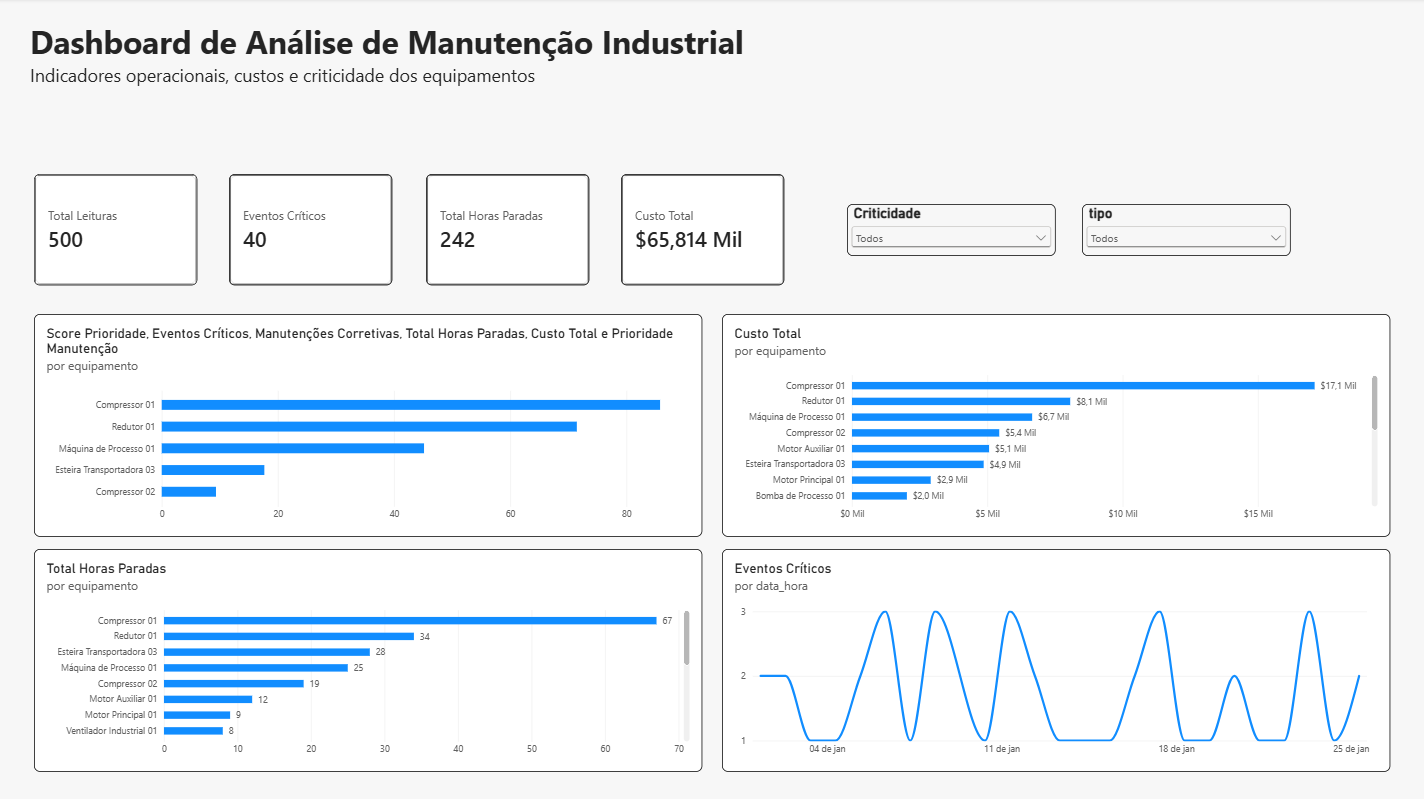

The page's visual inventory and layout, read from the dashboard file:
{"tool":"powerbi","page":{"name":"Visão Geral","canvas":[1920,1080],"ordinal":0},"visuals":[{"type":"cardVisual","title":"Total Leituras","fields":{"Data":["tb_leituras.Total Leituras"]},"box":[45.3,237,220,150],"z":0},{"type":"cardVisual","fields":{"Data":["tb_leituras.Eventos Críticos"]},"box":[308.4,237,220,150],"z":1},{"type":"cardVisual","fields":{"Data":["tb_manutencoes.Total Horas Paradas"]},"box":[573.2,237,220,150],"z":2},{"type":"cardVisual","fields":{"Data":["tb_manutencoes.Custo Total"]},"box":[836.3,237,220,150],"z":3},{"type":"clusteredBarChart","fields":{"Category":["tb_equipamentos.equipamento"],"Y":["tb_manutencoes.Custo Total"]},"box":[972.2,425.1,900,300],"z":5},{"type":"clusteredBarChart","fields":{"Category":["tb_equipamentos.equipamento"],"Y":["tb_manutencoes.Total Horas Paradas"]},"box":[45.3,742.2,900,300],"z":6},{"type":"slicer","fields":{"Values":["tb_equipamentos.criticidade"]},"box":[1141.2,277,280.5,70],"z":7},{"type":"slicer","fields":{"Values":["tb_equipamentos.tipo"]},"box":[1456.6,277,280.5,70],"z":8},{"type":"textbox","box":[40,30,980,90],"z":9},{"type":"clusteredBarChart","fields":{"Category":["tb_equipamentos.equipamento"],"Y":["tb_equipamentos.Score Prioridade"]},"box":[45.3,425.1,900,300],"z":10},{"type":"lineChart","fields":{"Category":["tb_leituras.data_hora"],"Y":["tb_leituras.Eventos Críticos"]},"box":[972.2,742.2,900,300],"z":11}]}

Visuals, with their boxes in screenshot pixels (x1, y1, x2, y2), scaled from the page's 1920x1080 canvas onto the 1424x799 screenshot:
"Total Leituras" cardVisual: 34/175/197/286
cardVisual - tb_leituras.Eventos Críticos: 229/175/392/286
cardVisual - tb_manutencoes.Total Horas Paradas: 425/175/588/286
cardVisual - tb_manutencoes.Custo Total: 620/175/783/286
clusteredBarChart - tb_equipamentos.equipamento x tb_manutencoes.Custo Total: 721/314/1389/536
clusteredBarChart - tb_equipamentos.equipamento x tb_manutencoes.Total Horas Paradas: 34/549/701/771
slicer - tb_equipamentos.criticidade: 846/205/1054/257
slicer - tb_equipamentos.tipo: 1080/205/1288/257
textbox: 30/22/756/89
clusteredBarChart - tb_equipamentos.equipamento x tb_equipamentos.Score Prioridade: 34/314/701/536
lineChart - tb_leituras.data_hora x tb_leituras.Eventos Críticos: 721/549/1389/771
